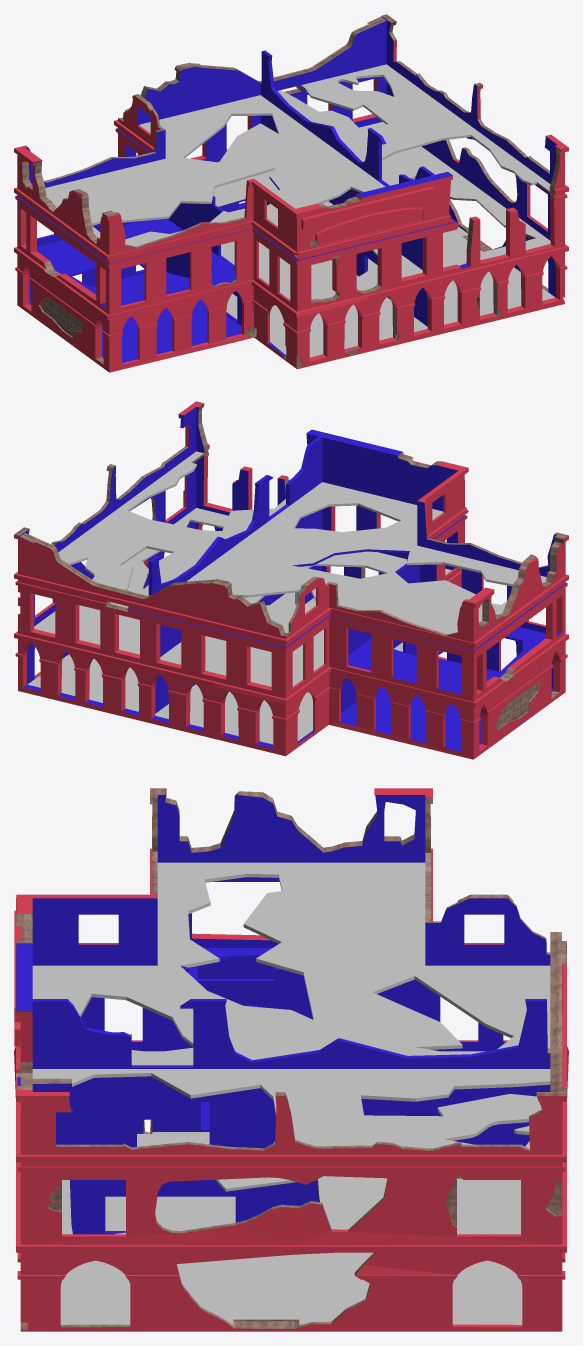
File: old_building.fbx
The picture shows the model from 3 angles, top to bottom: view 1: azimuth 30°, elevation 25°; view 2: azimuth 150°, elevation 25°; view 3: azimuth 270°, elevation 25°; orthographic projection. The views are drawn at different scales.
Visible parts, largest first — view 1: old_building; view 2: old_building; view 3: old_building.
Boxes of the visible parts, box(x1,y1,x2,y2) form: old_building: box(14, 14, 568, 372); old_building: box(14, 401, 568, 759); old_building: box(14, 788, 568, 1331).
Size of the model in its own units: 3291 by 1187 by 2507.
